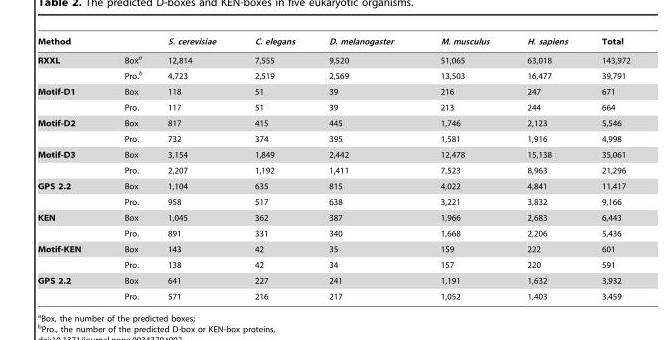table: (37, 36, 629, 300)
table column: (311, 36, 416, 300), (416, 36, 508, 300), (153, 36, 235, 300), (235, 36, 311, 300), (508, 36, 584, 300), (37, 36, 102, 300), (102, 36, 153, 300), (584, 36, 629, 300)
table column header: (37, 36, 629, 49)
table row: (37, 49, 629, 67), (37, 67, 629, 83), (37, 83, 629, 99), (37, 99, 629, 115), (37, 130, 629, 146), (37, 146, 629, 162), (37, 162, 629, 178), (37, 193, 629, 209), (37, 209, 629, 225), (37, 225, 629, 241), (37, 256, 629, 272), (37, 272, 629, 288), (37, 115, 629, 130), (37, 178, 629, 193), (37, 241, 629, 256), (37, 36, 629, 49), (37, 288, 629, 300)
table spanning cell: (37, 49, 102, 83), (37, 83, 102, 115), (37, 146, 102, 178), (37, 209, 102, 241), (37, 115, 102, 146), (37, 178, 102, 209), (37, 241, 102, 272), (37, 272, 102, 300)
